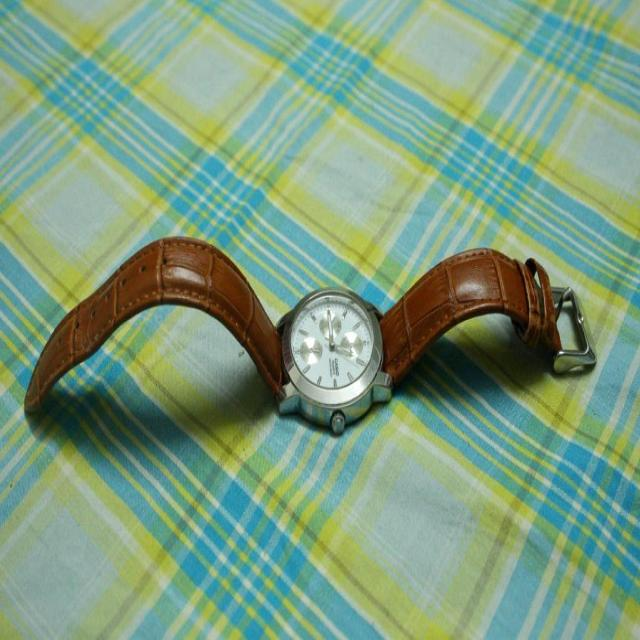Wrist watch: (24, 238, 594, 432)
